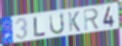3: (15, 17, 30, 41)
4: (102, 6, 116, 29)
K: (68, 11, 81, 33)
L: (33, 16, 47, 38)
R: (83, 8, 100, 32)
U: (49, 12, 66, 36)
